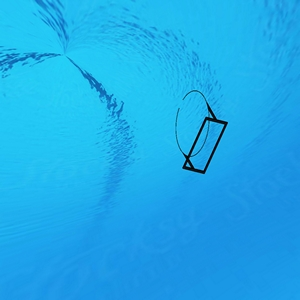circle: (172, 88, 228, 177)
